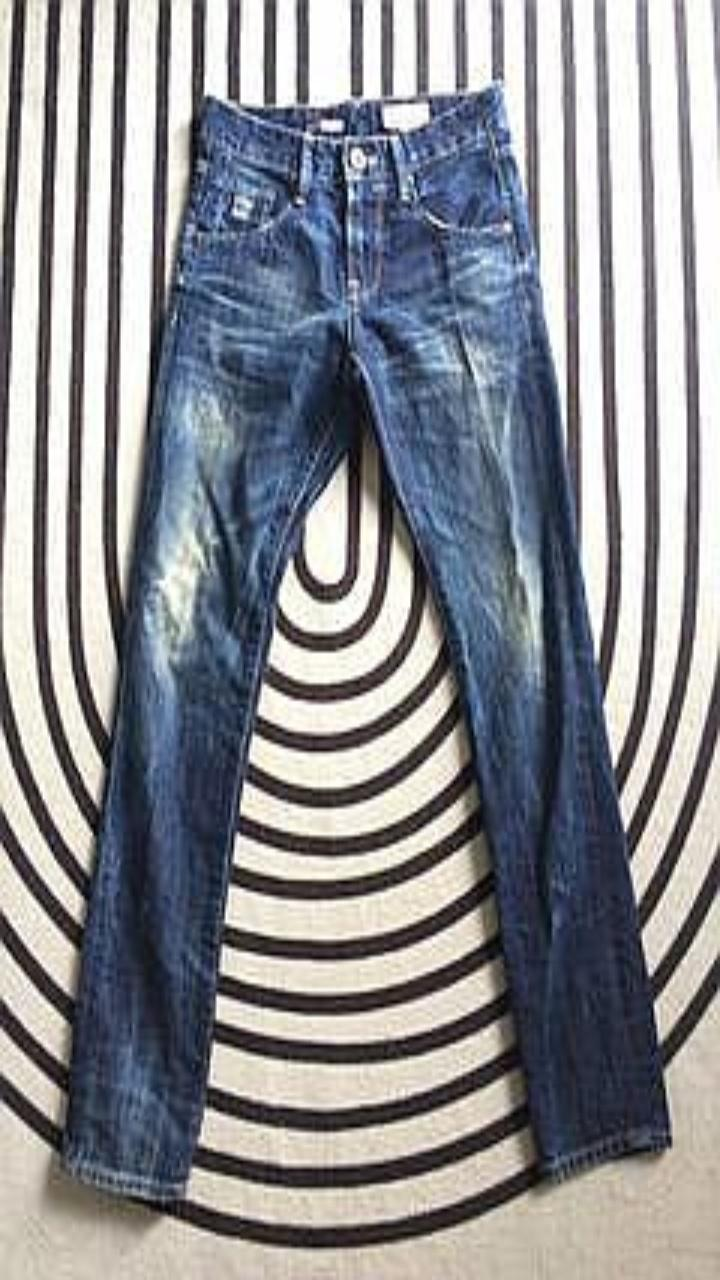Jeans: (60, 79, 670, 1200)
